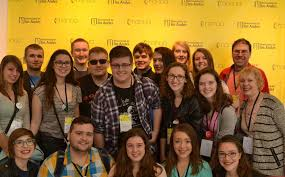person: (95, 41, 151, 103), (50, 114, 107, 169), (235, 68, 280, 131), (41, 45, 83, 107), (193, 65, 235, 125)
